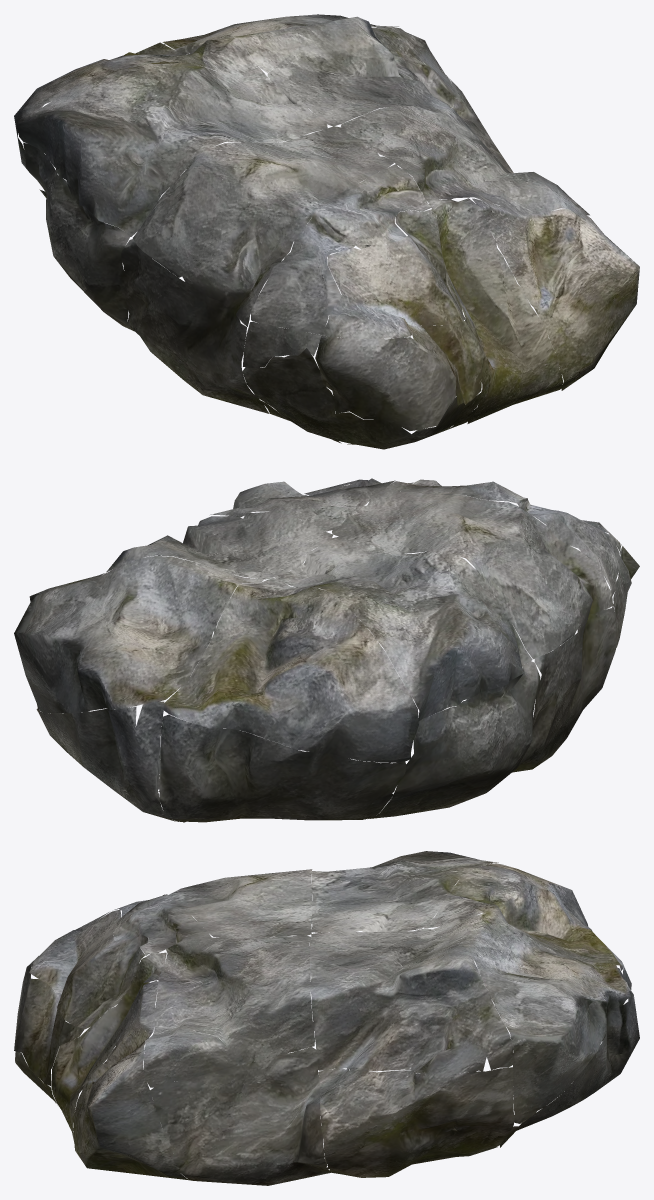
Rendered from rock-c.glb.
3 renders of one model, top to bottom at view 1: azimuth 30°, elevation 25°; view 2: azimuth 150°, elevation 25°; view 3: azimuth 270°, elevation 25°, orthographic. The views are drawn at different scales.
Visible parts, largest first — view 1: Supplied rock-c; view 2: Supplied rock-c; view 3: Supplied rock-c.
Part boxes in pixels (x1,y1,x2,y2): Supplied rock-c: [14, 14, 639, 449]; Supplied rock-c: [14, 478, 639, 822]; Supplied rock-c: [14, 851, 639, 1185].
Size of the model in its own units: 0.713 by 0.3825 by 1.
Materials: 1 (1 with a texture image).
